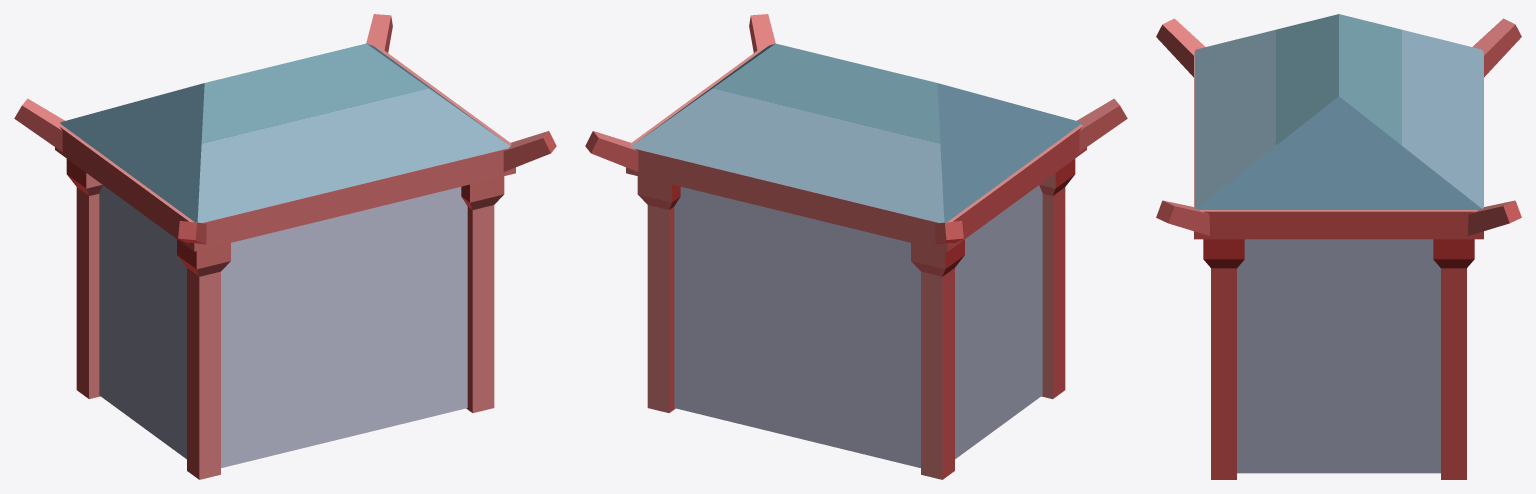
The model's file is house_bg_c.fbx.
3 renders of one model, left to right at view 1: azimuth 30°, elevation 25°; view 2: azimuth 150°, elevation 25°; view 3: azimuth 270°, elevation 25°, orthographic. The views are drawn at different scales.
Parts seen in each view (by area): view 1: house_bg_c; view 2: house_bg_c; view 3: house_bg_c.
Boxes of the visible parts, bbox=[...] form: house_bg_c: bbox=[14, 14, 556, 479]; house_bg_c: bbox=[585, 14, 1127, 479]; house_bg_c: bbox=[1156, 14, 1521, 479].
Bounding box in the file's own units: 4.73 × 4.01 × 3.8.
Materials: 1 (1 with a texture image).
